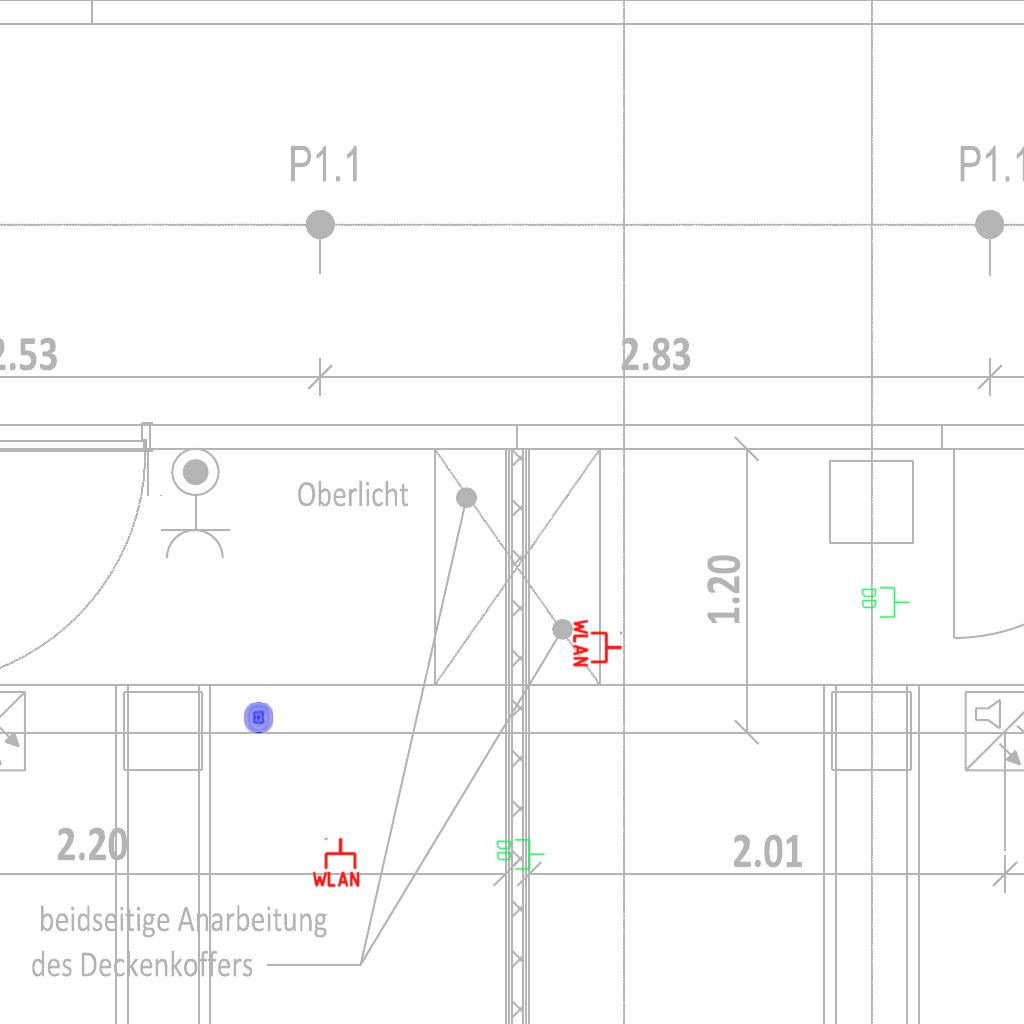Datenanschluss_zweifach: (860, 585, 911, 619), (495, 837, 546, 871)
Taster_beleuchtet: (242, 701, 275, 734)
WLAN: (310, 836, 362, 888), (572, 617, 624, 669)
